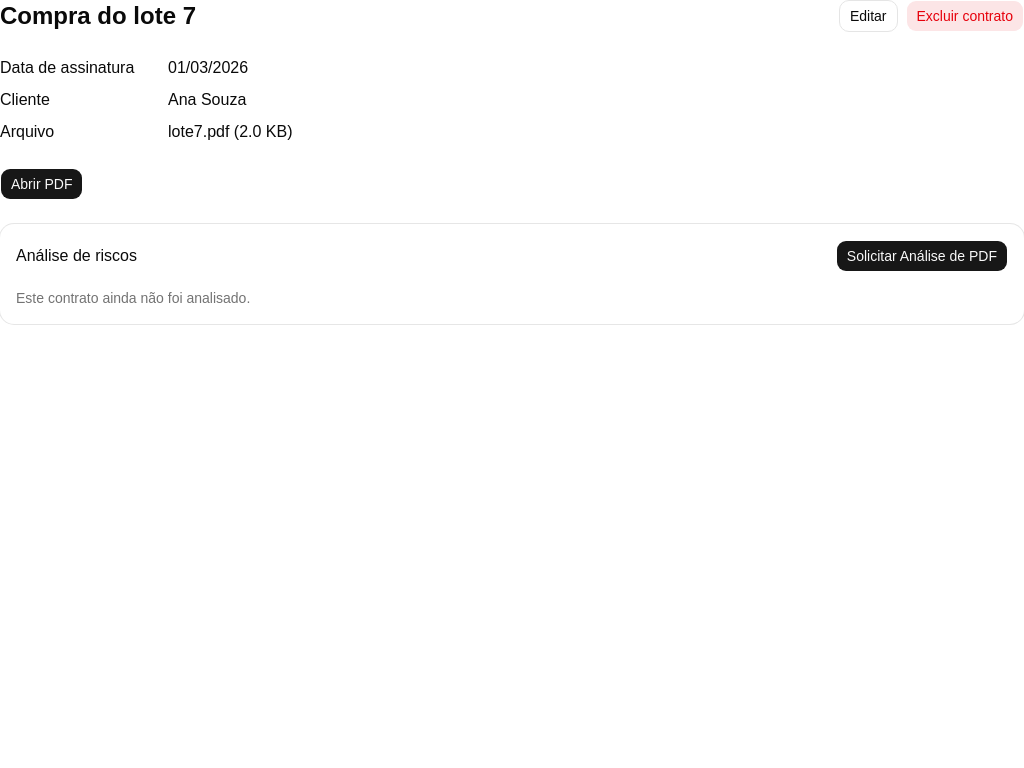
Test: exclusão sem duplo envio › contrato: enquanto o DELETE está em andamento o botão fica desabilitado e só há um DELETE
The width and height of the screenshot is (1024, 768).
Click the button "Excluir contrato": point(965, 16) [906,0,1023,32]
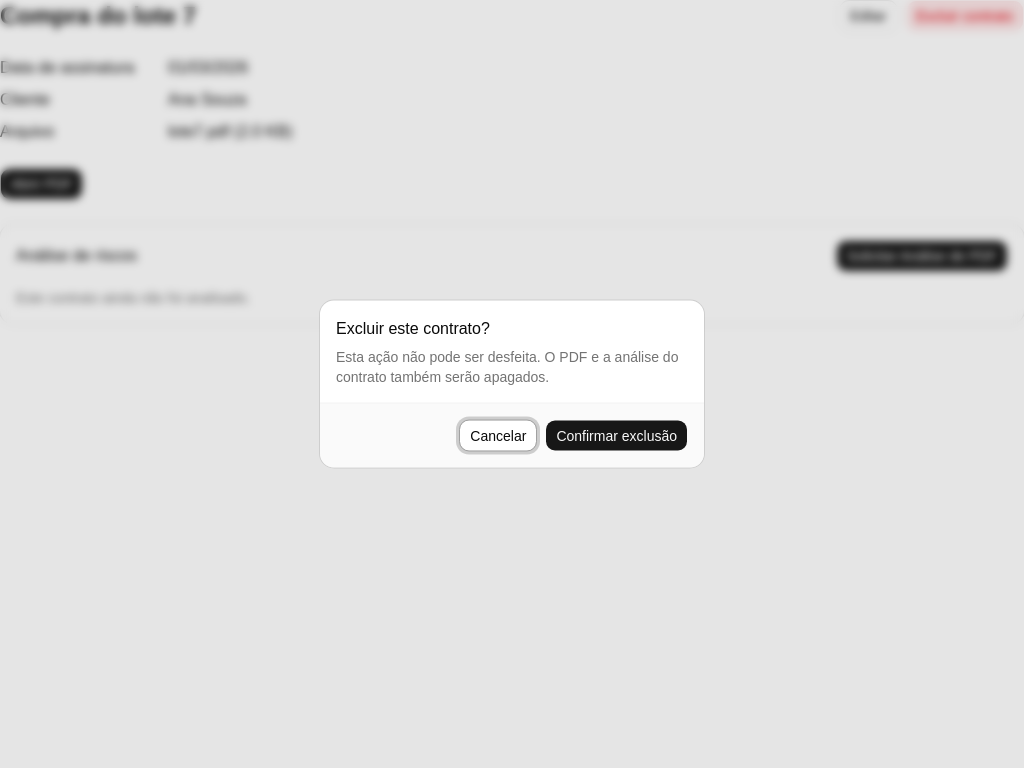
Click the button "Confirmar exclusão": point(617, 436) [545,420,688,452]
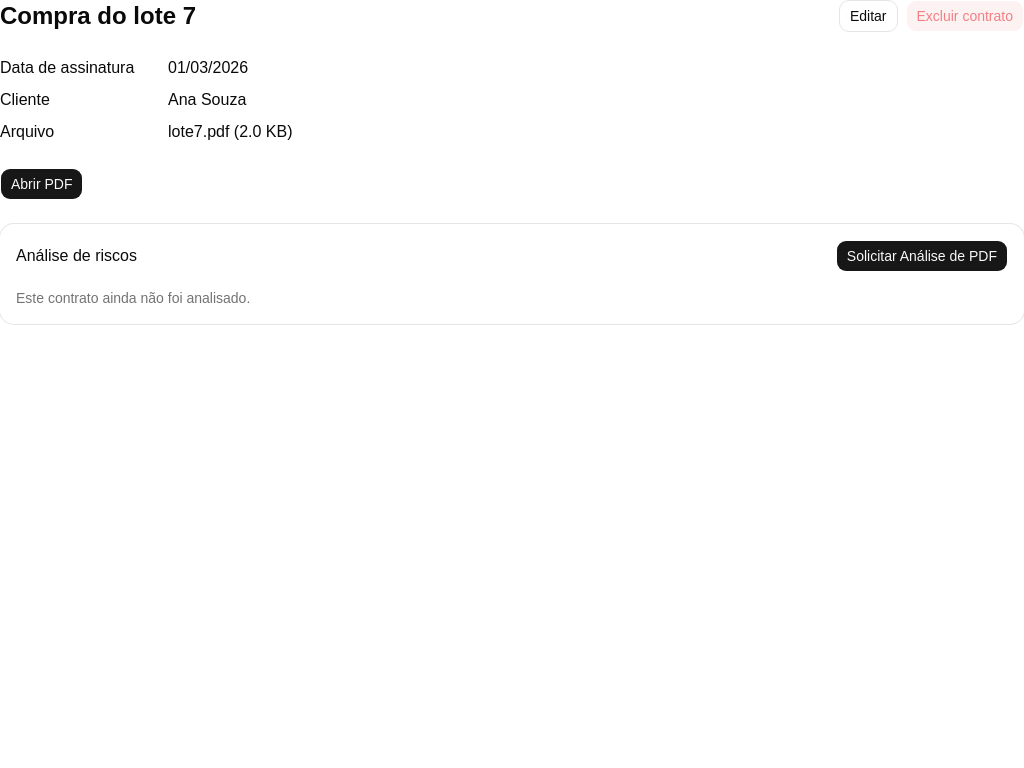
Now the button "Excluir contrato" is disabled, box [906,0,1023,32]
